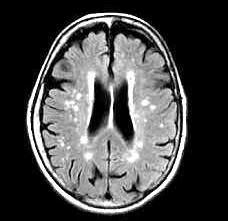Normal_Brain: (1, 3, 228, 221)
